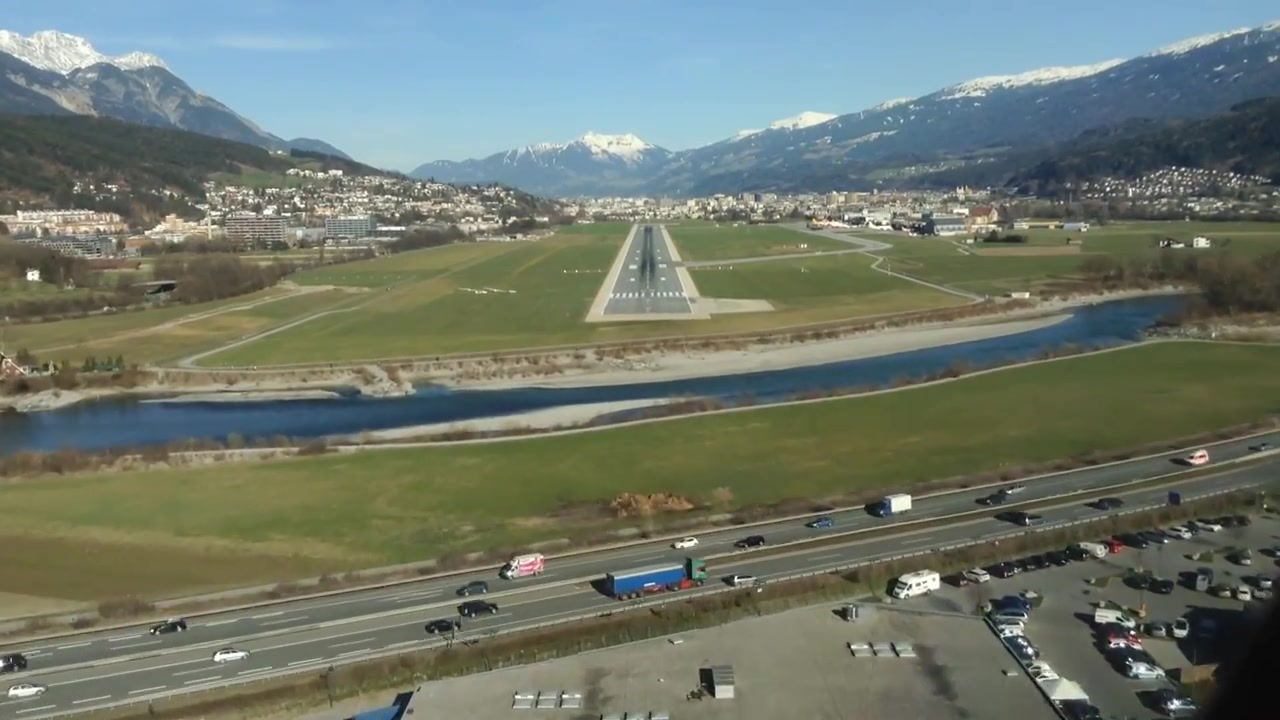entrance: (606, 291, 686, 300)
runway: (604, 223, 690, 313)
